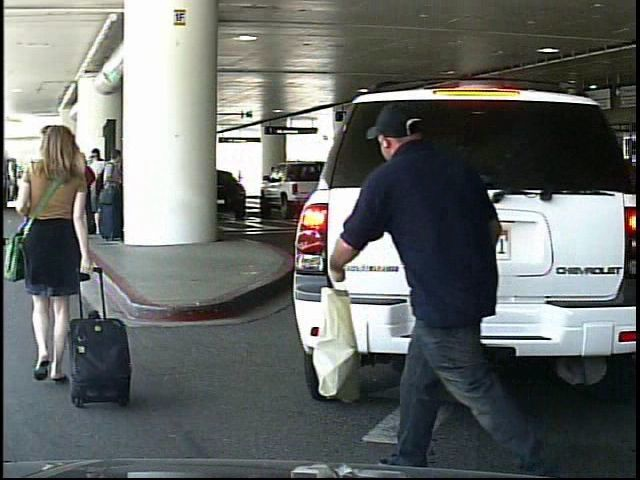person: (340, 85, 519, 470), (4, 122, 108, 414)
